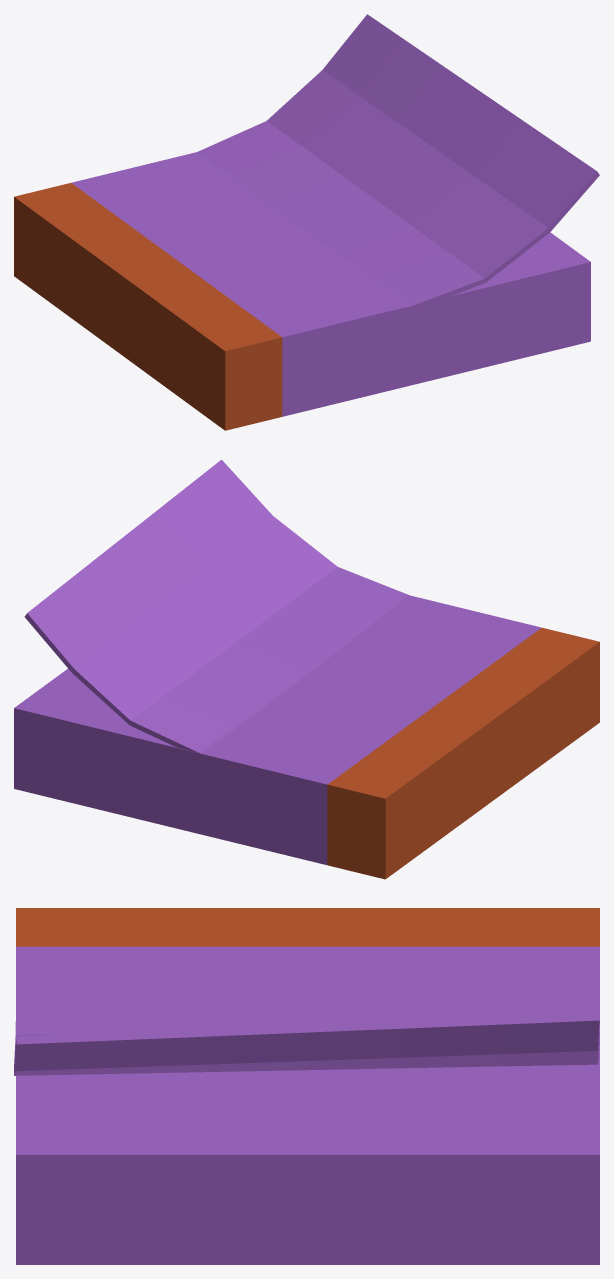
The model's file is notes_bloc2.fbx.
3 renders of one model, top to bottom at view 1: azimuth 30°, elevation 25°; view 2: azimuth 150°, elevation 25°; view 3: azimuth 270°, elevation 25°, orthographic. The views are drawn at different scales.
Parts seen in each view (by area): view 1: Cube.010; view 2: Cube.010; view 3: Cube.010.
Boxes of the visible parts, x1,y1,x2,y2 form: Cube.010: [14, 14, 599, 430]; Cube.010: [14, 459, 599, 879]; Cube.010: [14, 908, 599, 1264].
Bounding box in the file's own units: 15.78 × 7.08 × 15.45.
